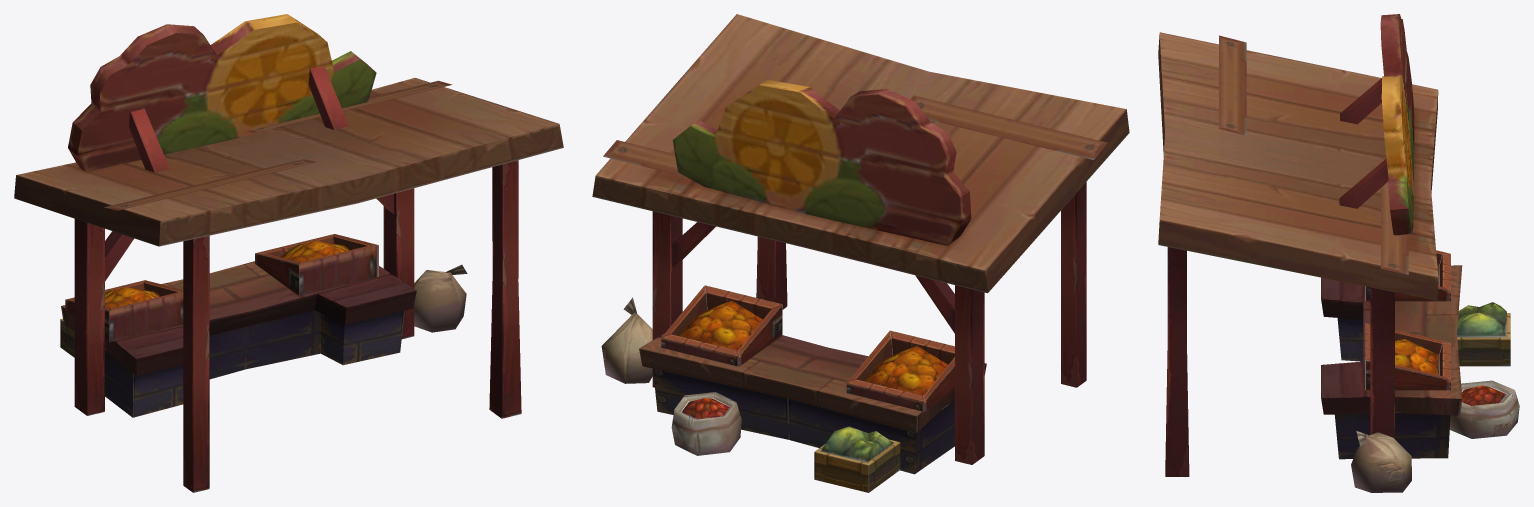
Rendered from tanwei_02.FBX.
3 views of the same model, side by side, from view 1: azimuth 30°, elevation 25°; view 2: azimuth 150°, elevation 25°; view 3: azimuth 270°, elevation 25° (orthographic). The views are drawn at different scales.
Visible parts, largest first — view 1: tanwei_02; view 2: tanwei_02; view 3: tanwei_02.
Boxes of the visible parts, x1,y1,x2,y2 form: tanwei_02: [14, 14, 563, 492]; tanwei_02: [592, 14, 1129, 492]; tanwei_02: [1158, 14, 1519, 492].
Size of the model in its own units: 91.53 by 73.78 by 69.37.
